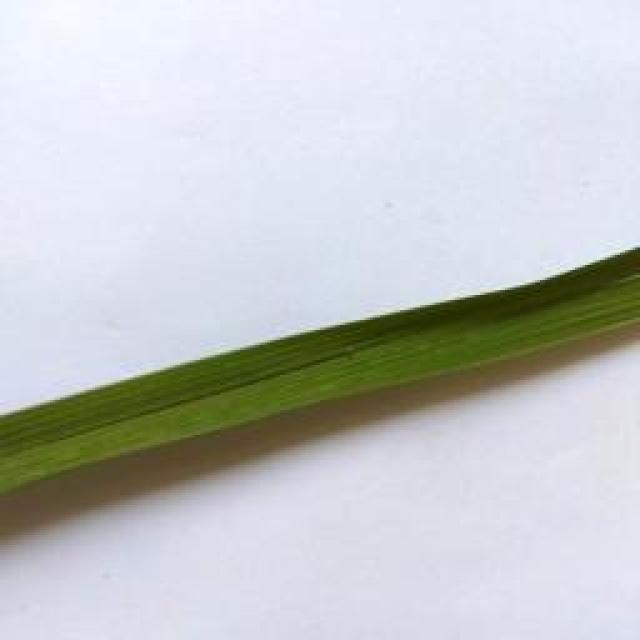Healthy-Plant: (0, 244, 640, 493)
